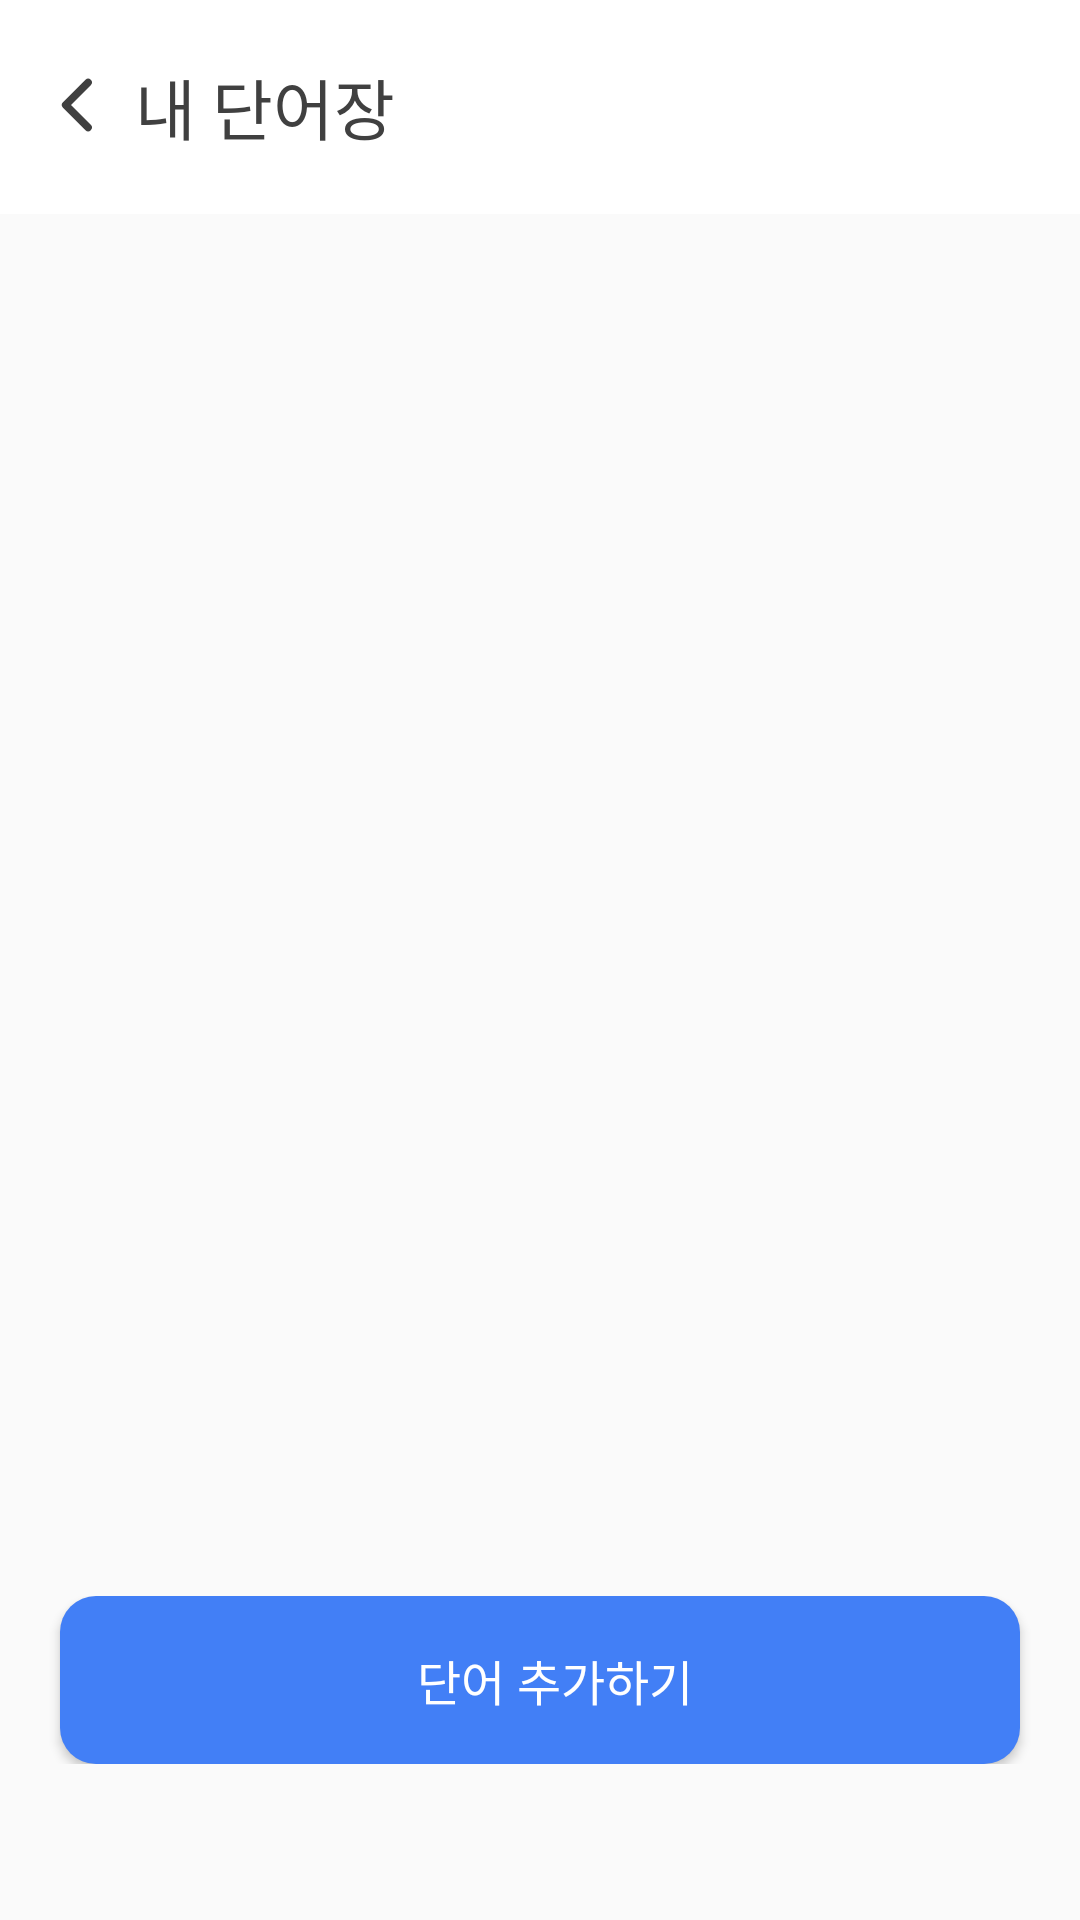

Icons on this 1080px×1920px Android screen, each with the point to tap as (x=x, y=y):
back: (x=76, y=105)
